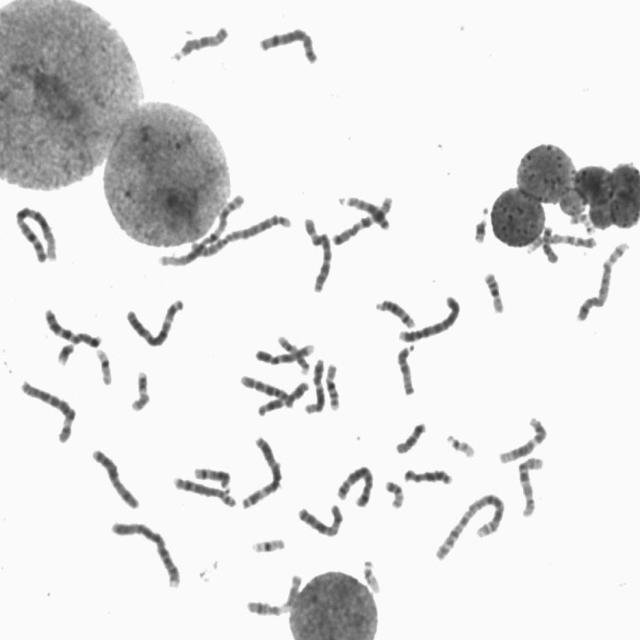A1: (154, 188, 248, 269), (11, 200, 61, 264)
A2: (432, 486, 508, 562), (185, 207, 292, 260)
A3: (238, 430, 286, 511), (122, 293, 187, 349)
B4: (107, 515, 184, 590), (395, 290, 463, 343)
B5: (573, 235, 632, 323), (334, 460, 377, 509)
C10: (515, 450, 547, 520), (238, 369, 296, 407)
C11: (243, 568, 305, 618), (254, 376, 312, 417)
C12: (496, 411, 550, 465), (302, 353, 328, 415)
C6: (16, 374, 78, 444), (300, 212, 336, 294)
C7: (328, 190, 396, 247), (40, 302, 104, 349)
C8: (256, 21, 322, 65), (170, 471, 239, 508)
C9: (253, 337, 318, 366), (524, 229, 600, 253)
D13: (338, 190, 392, 231), (401, 462, 456, 486)
D14: (372, 293, 419, 329), (190, 461, 233, 490)
D15: (168, 19, 232, 63), (394, 339, 419, 396)
E16: (480, 266, 508, 314), (322, 357, 343, 412)
E17: (274, 330, 312, 376), (127, 365, 152, 413)
E18: (393, 416, 429, 455), (539, 220, 562, 264)
F19: (92, 342, 115, 386), (248, 532, 288, 555)
F20: (568, 208, 602, 242), (382, 475, 408, 510)
G21: (53, 336, 77, 366), (471, 210, 491, 244)
G22: (443, 428, 478, 459), (359, 554, 384, 594)
X: (88, 443, 143, 510), (294, 498, 346, 538)
